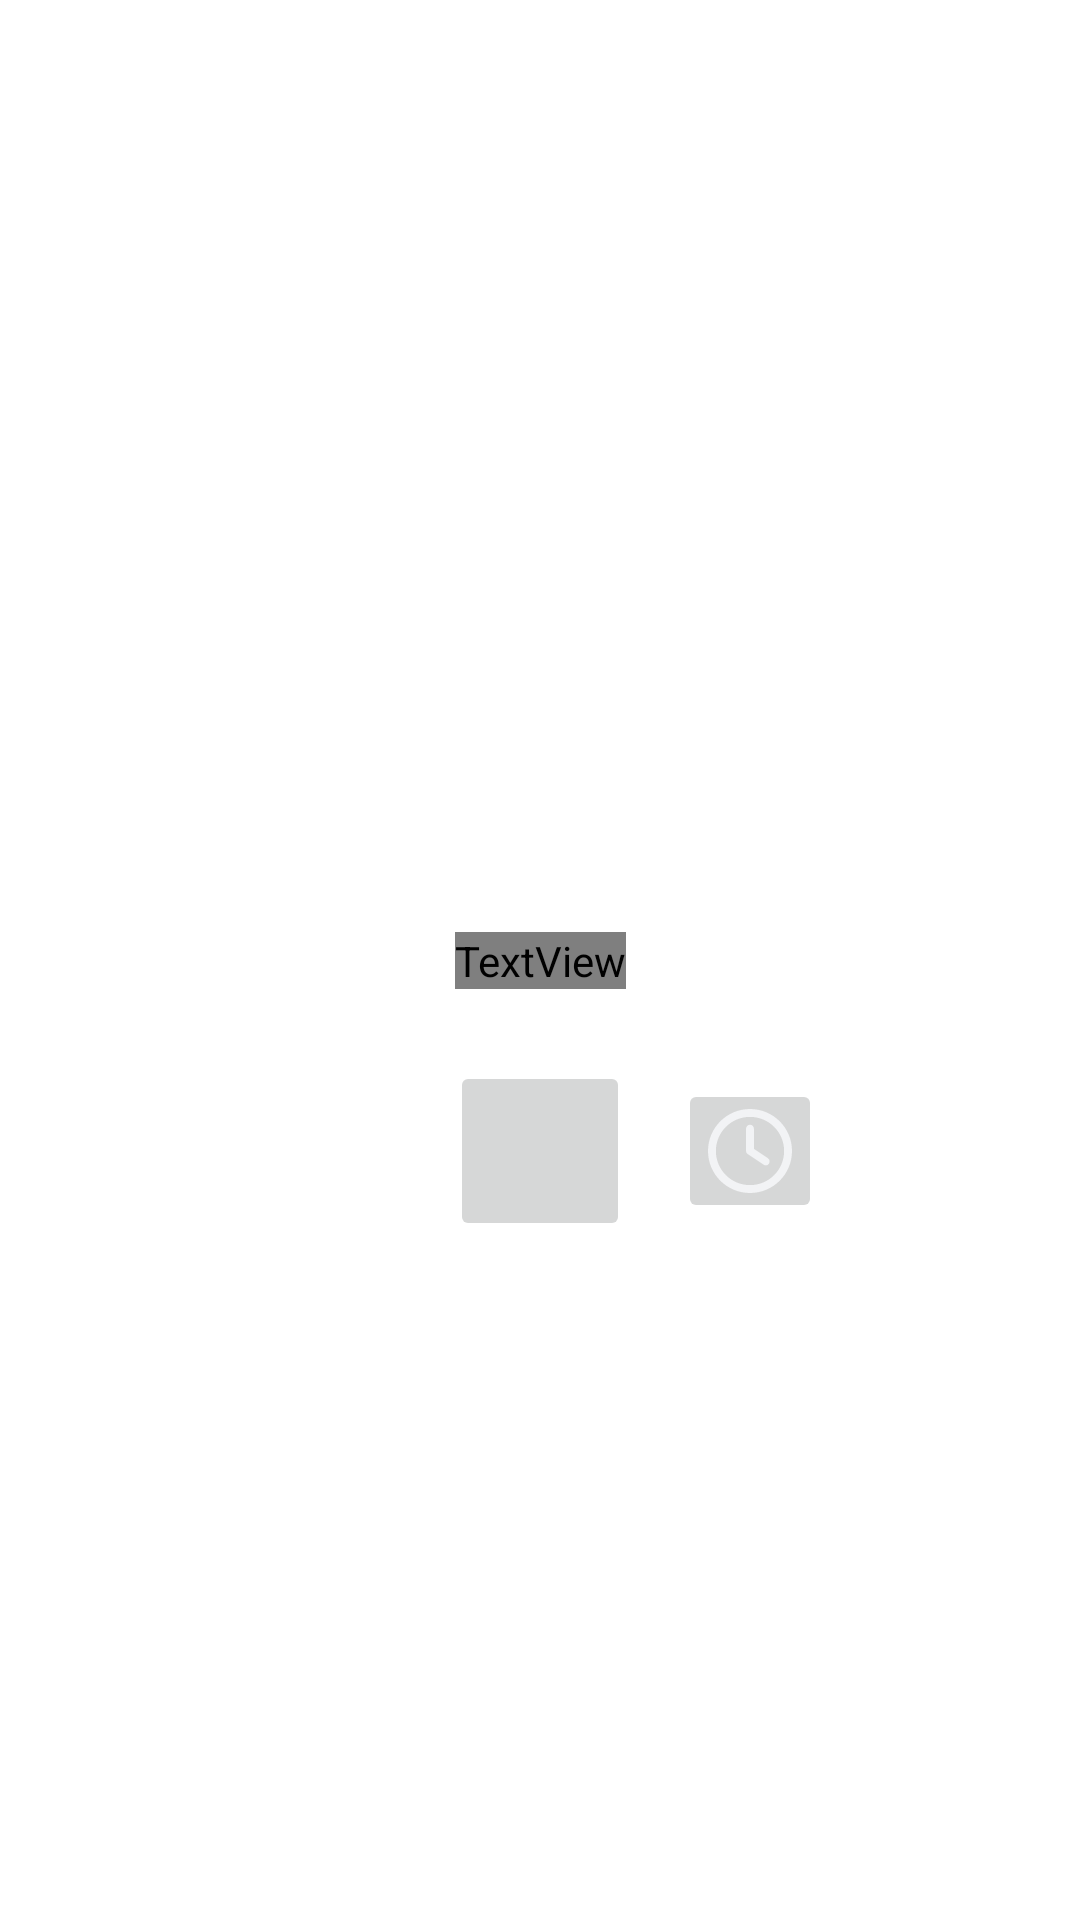

Named icons in this screenshot (1080 × 1920) and their bounding boxes, (x1=x1, y1=y1, x2=x2, y2=y2):
timer: (x1=690, y1=1097, x2=810, y2=1205)
